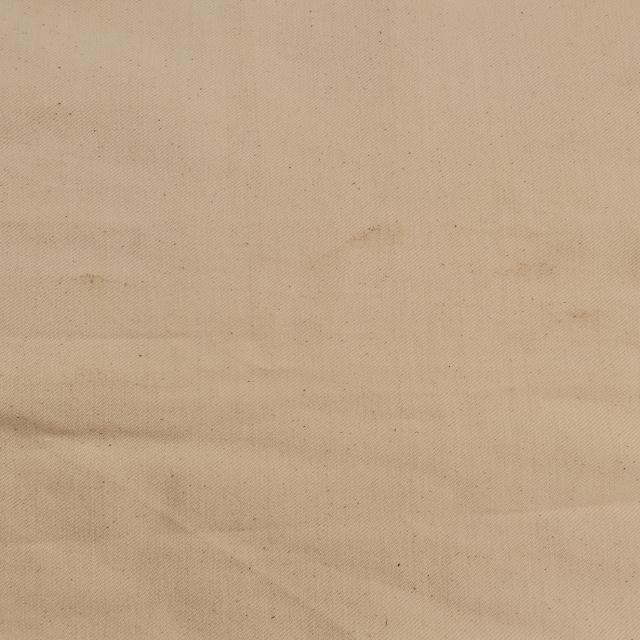taaaches: (316, 218, 408, 274), (483, 255, 573, 283), (64, 269, 118, 287)
